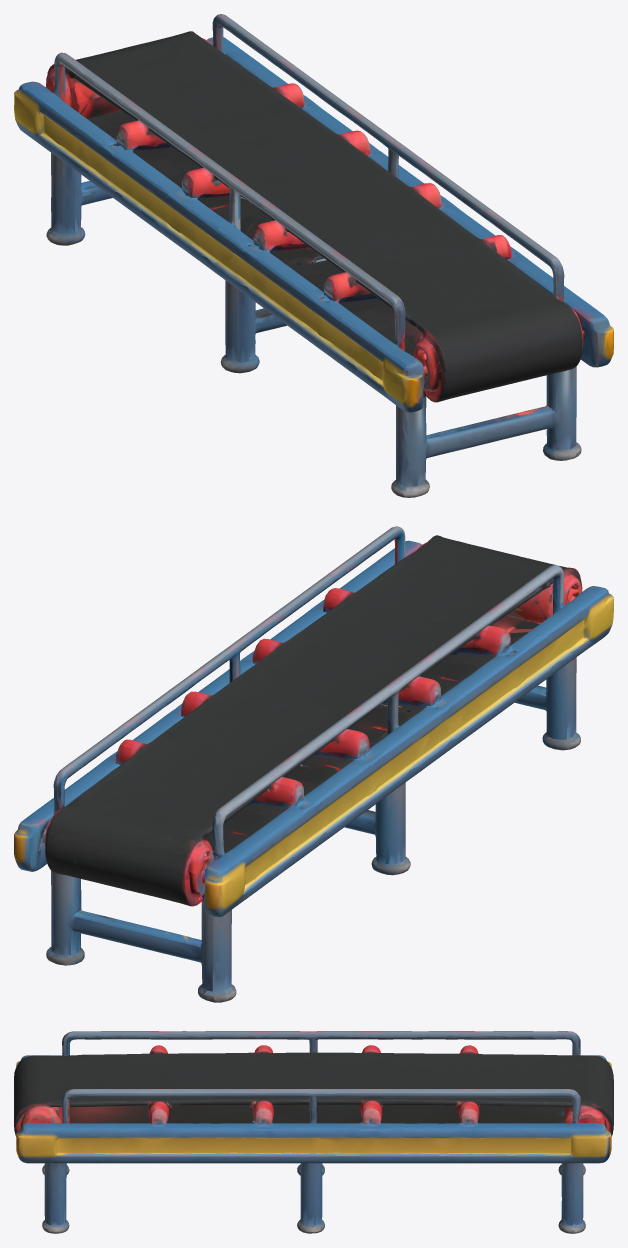
File: conveyor.glb
The picture shows the model from 3 angles, top to bottom: view 1: azimuth 30°, elevation 25°; view 2: azimuth 150°, elevation 25°; view 3: azimuth 270°, elevation 25°; orthographic projection. The views are drawn at different scales.
Visible parts, largest first — view 1: geometry_0; view 2: geometry_0; view 3: geometry_0.
Boxes of the visible parts, left/top/right/bottom form: geometry_0: left=14, top=14, right=613, bottom=497; geometry_0: left=14, top=526, right=613, bottom=1002; geometry_0: left=14, top=1031, right=613, bottom=1233.
Bounding box in the file's own units: 2.5 × 2.13 × 8.22.
Materials: 1 (1 with a texture image).
